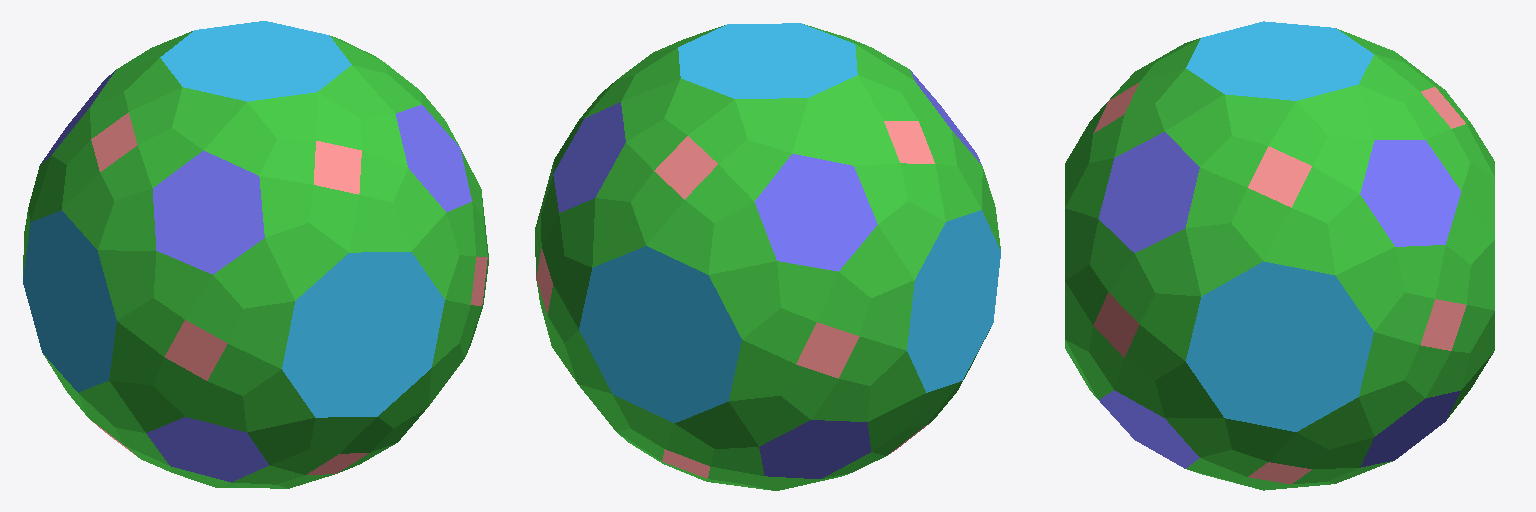
File: PropellorTruncatedCuboctahedron.obj
3 views of the same model, side by side, from view 1: azimuth 30°, elevation 25°; view 2: azimuth 150°, elevation 25°; view 3: azimuth 270°, elevation 25° (orthographic).
Size of the model in its own units: 1.85 by 1.85 by 1.85.